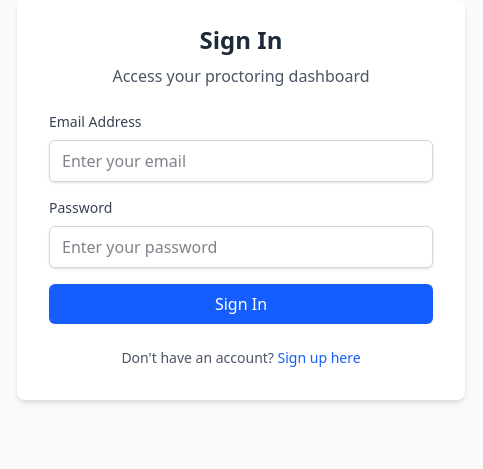
Test: LoginForm › clears field errors when user starts typing
// Trigger validation error
Click the button "Sign In". click: (241, 304)
box: [49,284,433,324]
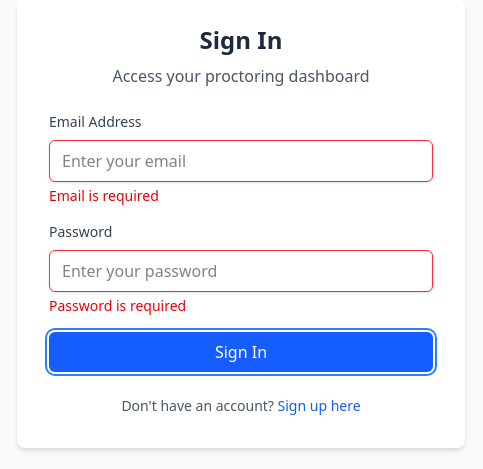
Check: the text "Email is required" is shown, box [49,186,159,205]
// Start typing to clear error
Type "t" into the field labelled "Email Address". click: (241, 161)
box: [49,140,433,182]
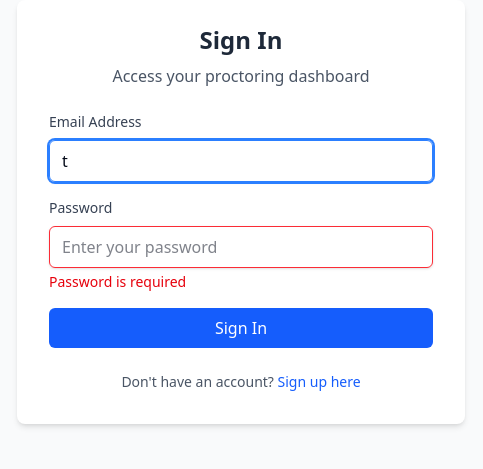
Check: the text "Email is required" is gone
